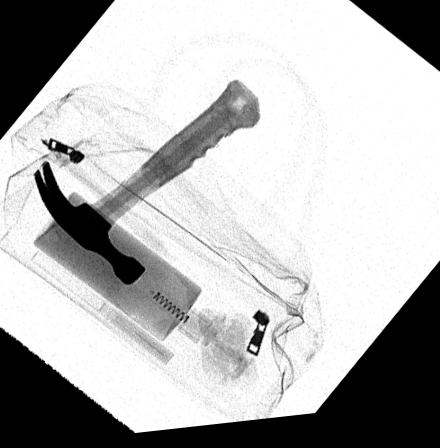Hammer: (33, 85, 260, 289)
